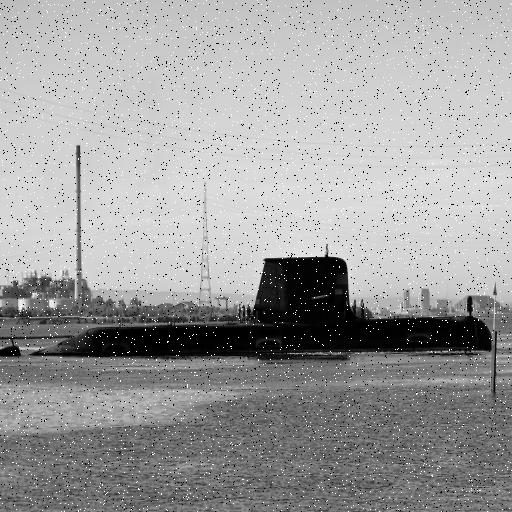submarine: (1, 247, 494, 358)
